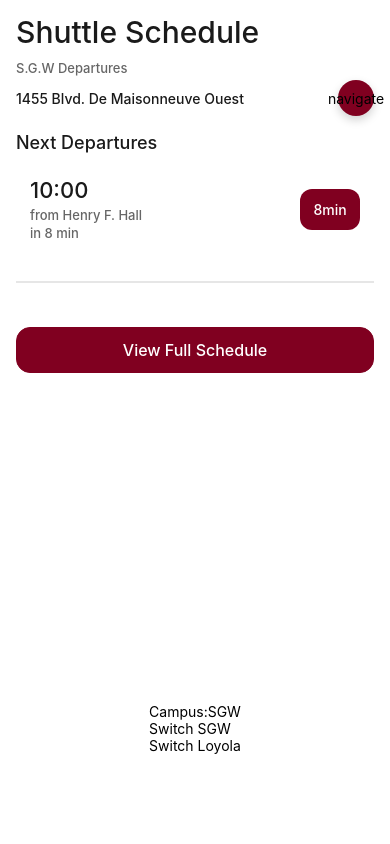
it: ShuttleInfoPage › highlights the next friday row using the friday column in full schedule view
Click the text "View Full Schedule".
click(195, 350)  # box [123, 340, 267, 360]
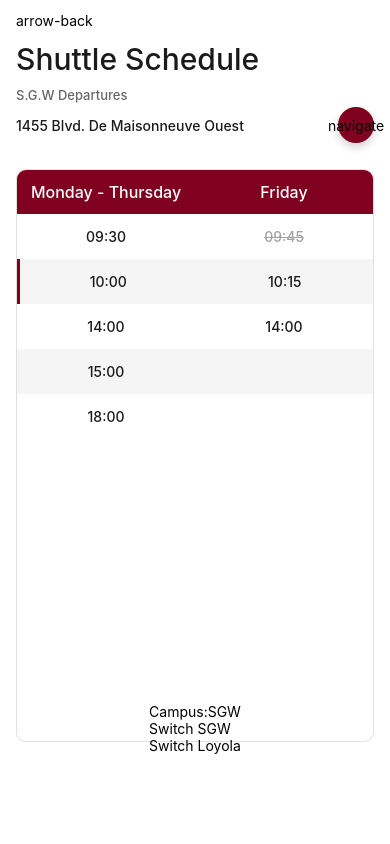
Result: the text "Friday" is shown at [260, 182, 308, 202]
